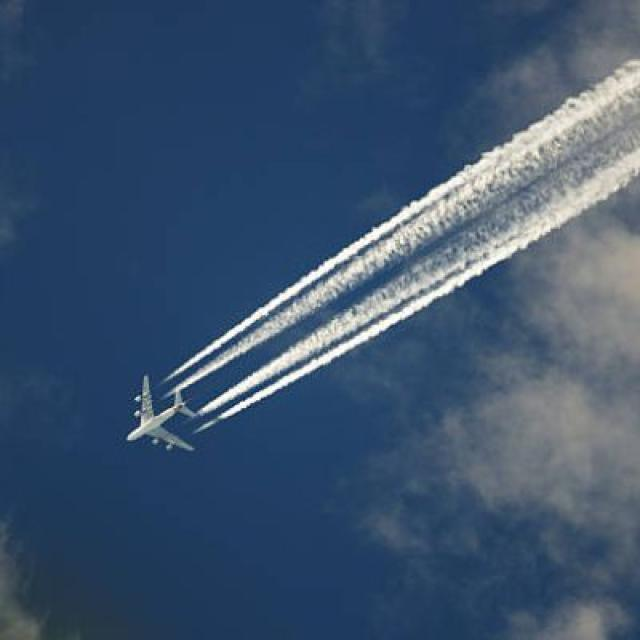Ct: (109, 54, 640, 472)
